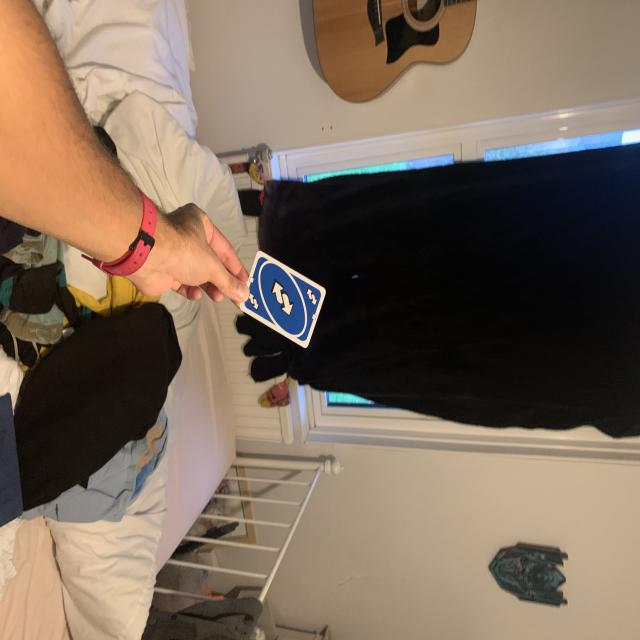lbluerevers-20: (247, 290, 262, 312)
